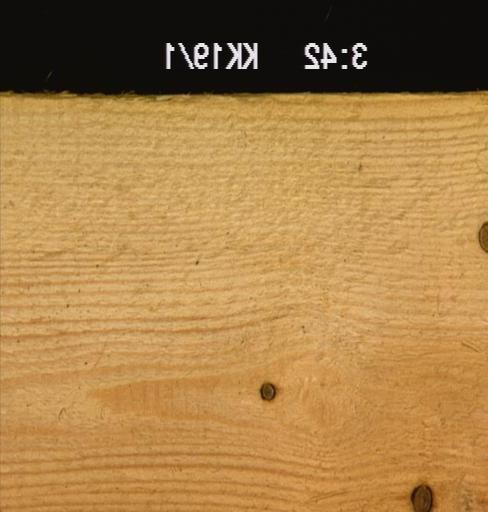dry_knot: (258, 380, 277, 401), (477, 219, 486, 255)
edge_knot: (409, 481, 435, 511)
